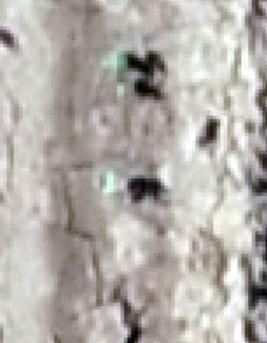cotton: (111, 51, 127, 75), (102, 172, 115, 190)
